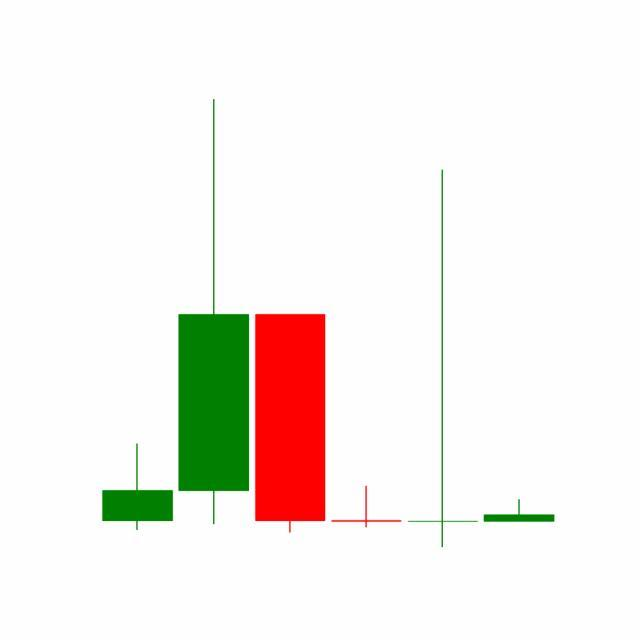Spinning Top: (404, 166, 482, 553)
